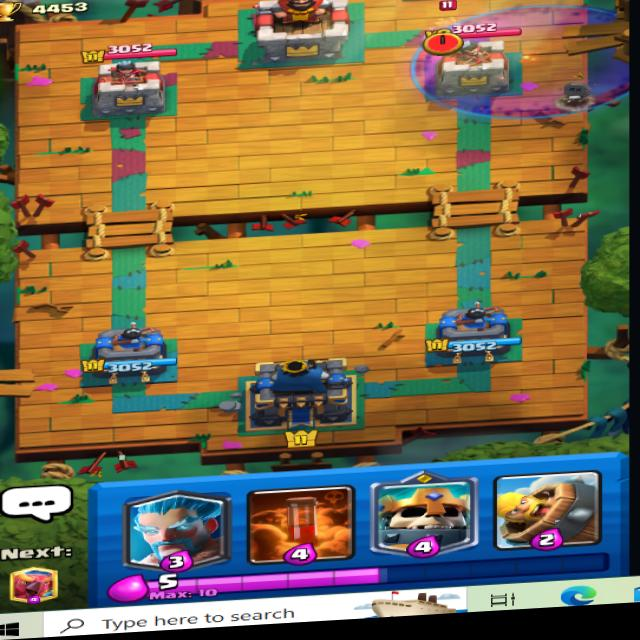royal-ghost: (421, 0, 482, 55)
